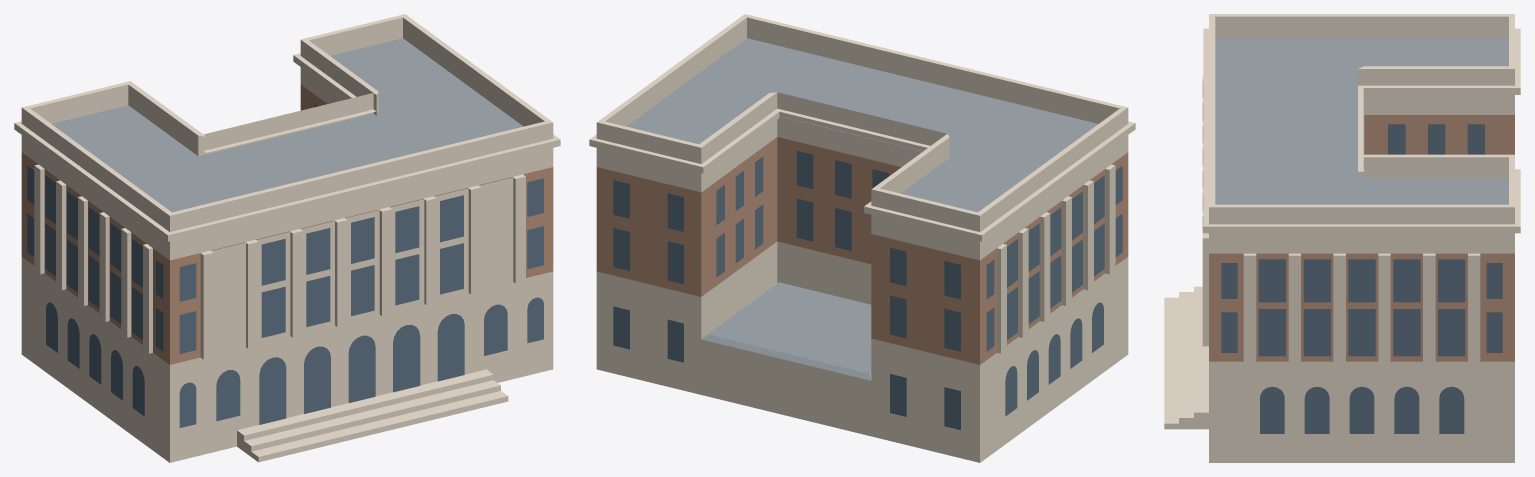
The model's file is lv-mob-museum.glb.
The picture shows the model from 3 angles, left to right: view 1: azimuth 30°, elevation 25°; view 2: azimuth 150°, elevation 25°; view 3: azimuth 270°, elevation 25°; orthographic projection. The views are drawn at different scales.
Parts seen in each view (by area): view 1: The Mob Museum; view 2: The Mob Museum; view 3: The Mob Museum.
Boxes of the visible parts, bbox=[...] form: The Mob Museum: bbox=[14, 14, 560, 462]; The Mob Museum: bbox=[589, 14, 1135, 462]; The Mob Museum: bbox=[1164, 14, 1520, 462].
Bounding box in the file's own units: 37.75 × 22.7 × 28.7.
